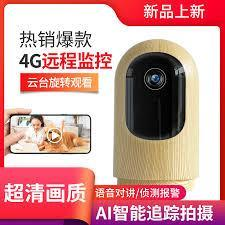maru: (110, 36, 209, 191)
